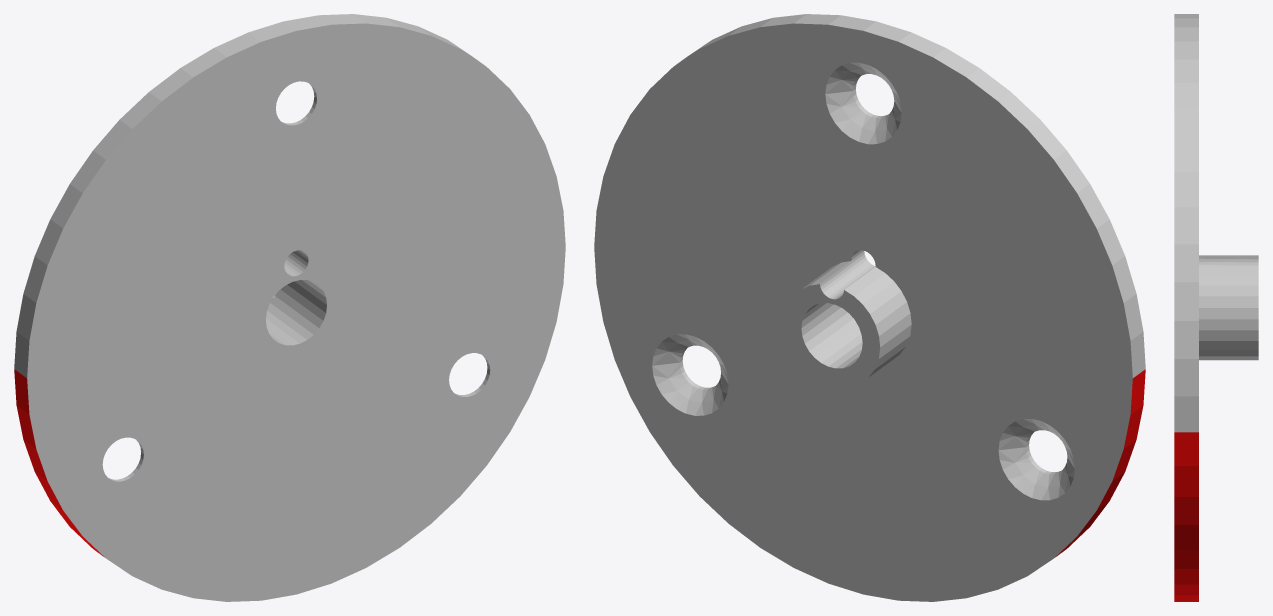
File: AE049670_step_12.obj
3 views of the same model, side by side, from view 1: azimuth 30°, elevation 25°; view 2: azimuth 150°, elevation 25°; view 3: azimuth 270°, elevation 25° (orthographic). The views are drawn at different scales.
Visible parts, largest first — view 1: Object1; view 2: Object1; view 3: Object1.
Boxes of the visible parts, <box> form: Object1: <box>14,14,565,601</box>; Object1: <box>594,14,1145,601</box>; Object1: <box>1174,14,1258,601</box>.
Bounding box in the file's own units: 44.45 × 44.45 × 6.35.
